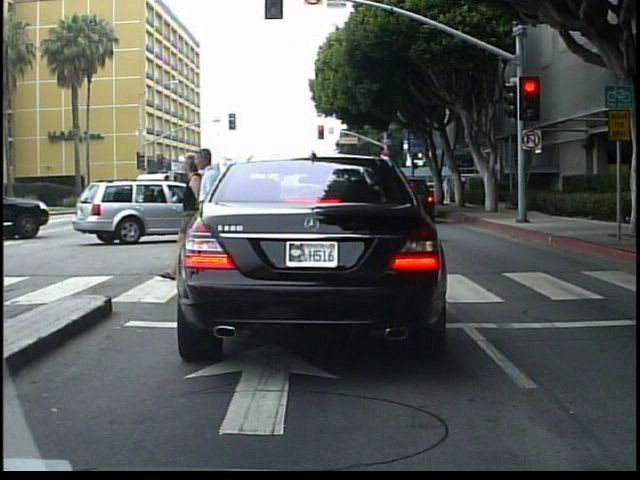person: (196, 148, 235, 285), (173, 145, 205, 286), (442, 175, 455, 207)
